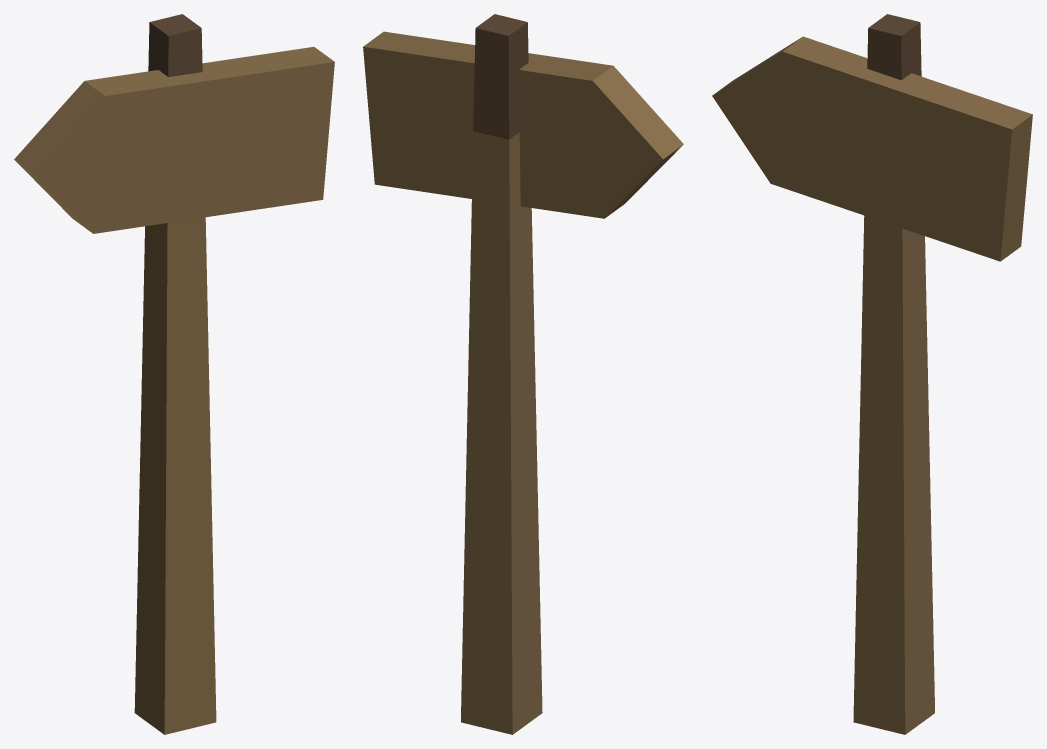
The model's file is marker-single-board.glb.
The picture shows the model from 3 angles, left to right: view 1: azimuth 30°, elevation 25°; view 2: azimuth 150°, elevation 25°; view 3: azimuth 330°, elevation 25°; orthographic projection.
Visible parts, largest first — view 1: marker-single-board runtime mesh; view 2: marker-single-board runtime mesh; view 3: marker-single-board runtime mesh.
Part boxes in pixels (bbox=[...]): marker-single-board runtime mesh: bbox=[14, 14, 334, 734]; marker-single-board runtime mesh: bbox=[363, 14, 683, 734]; marker-single-board runtime mesh: bbox=[712, 14, 1032, 734].
Bounding box in the file's own units: 0.4081 × 0.9 × 0.0841.
1 material, 1 textured.
